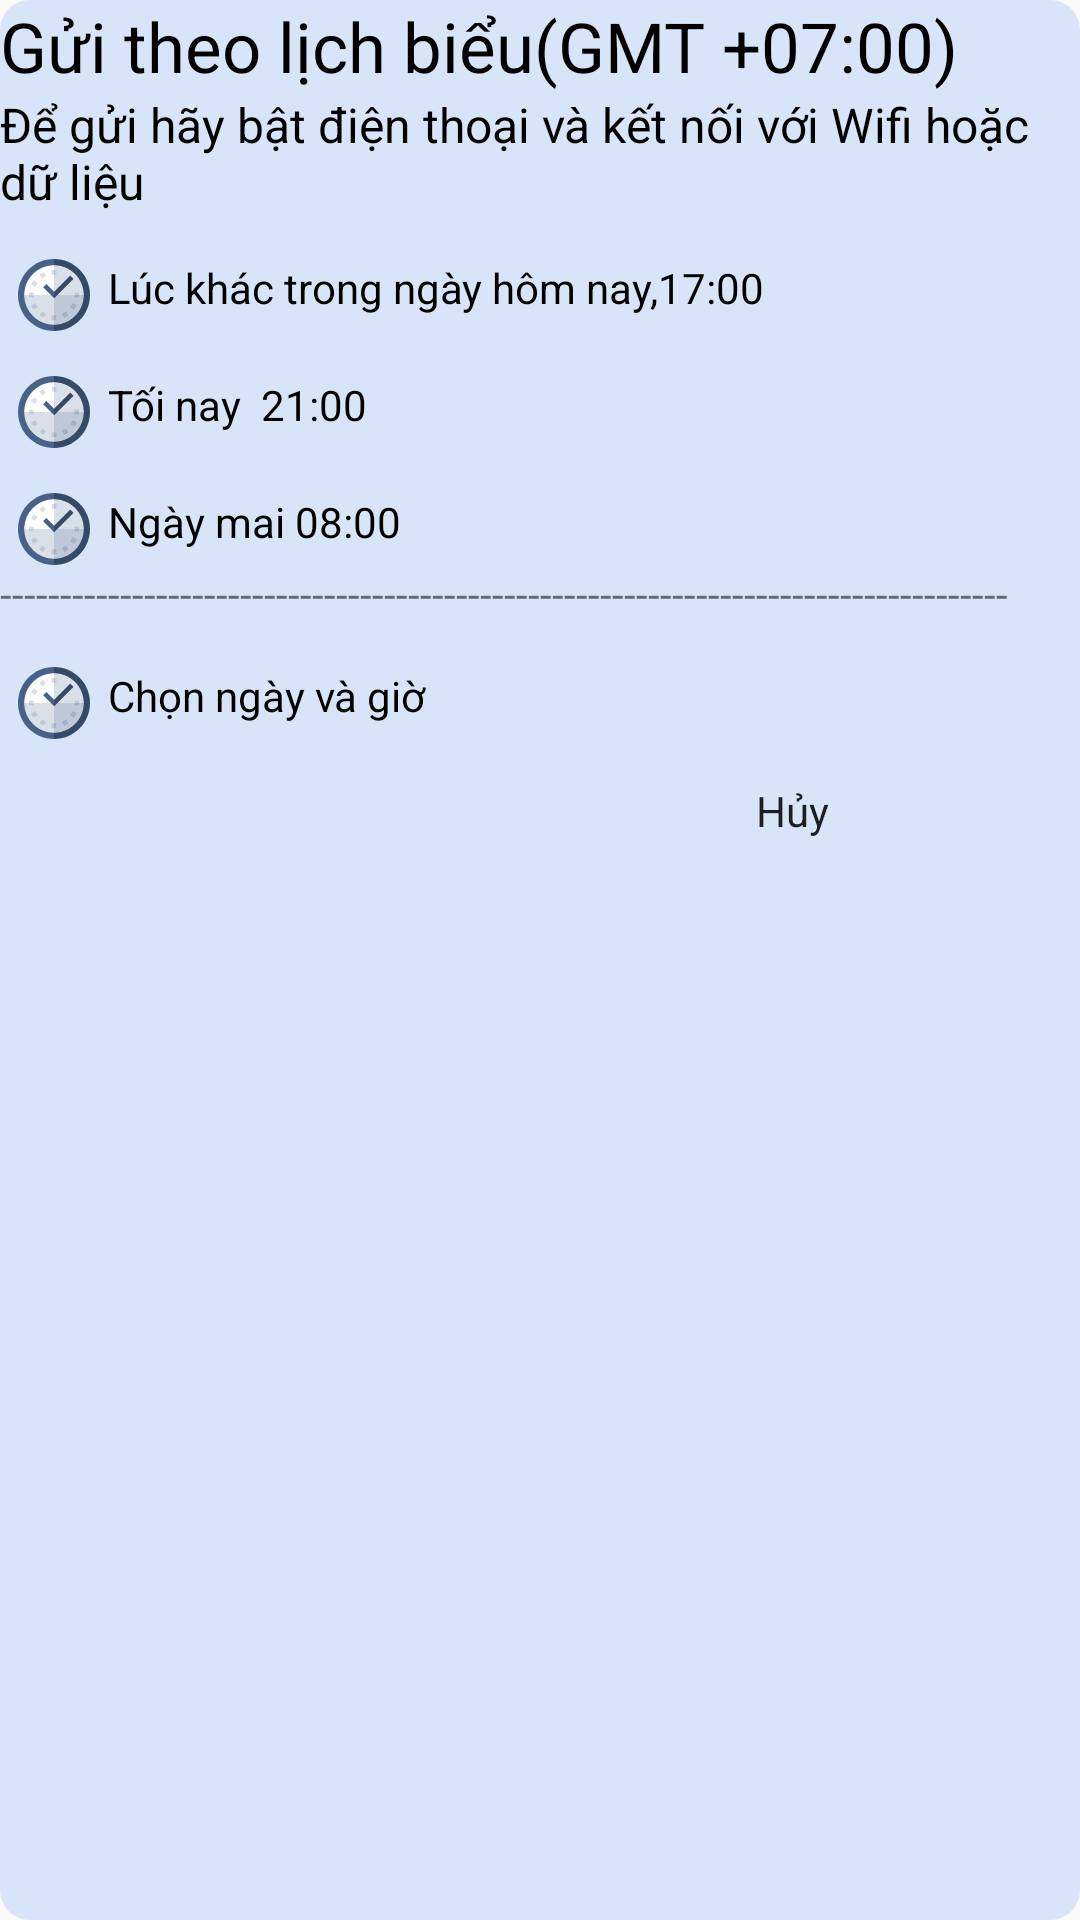

Screen size 1080*1920. Icon name, then its center in pixels as point (x, y):
time: point (54, 295), point (54, 412), point (54, 529), point (54, 703)
